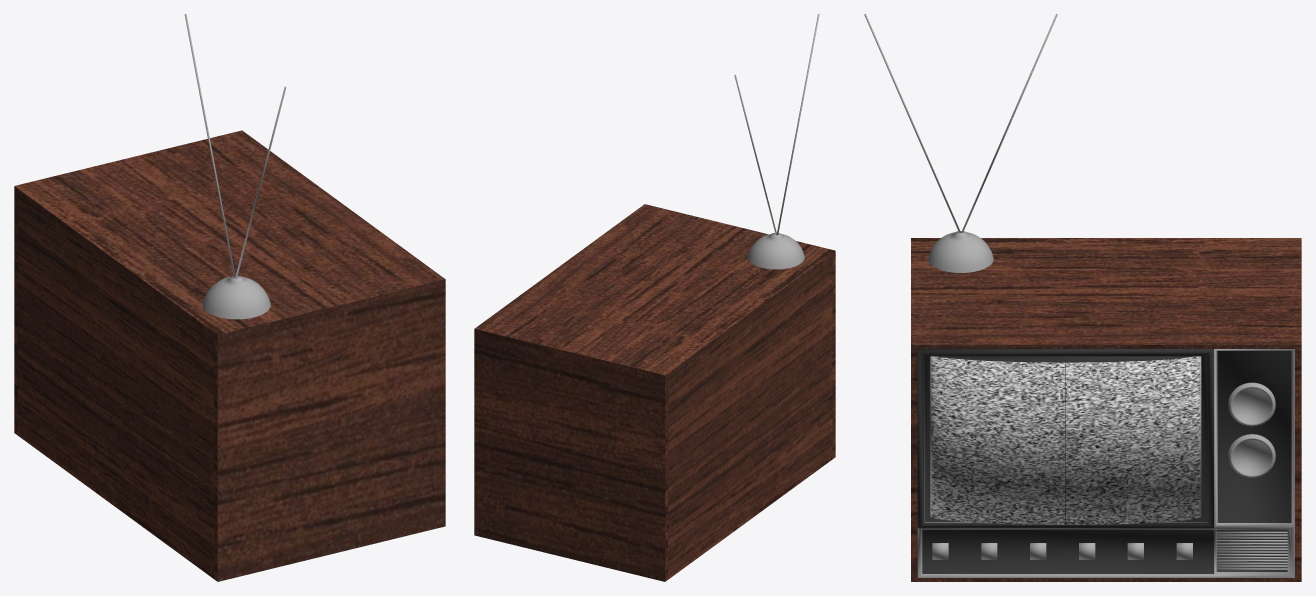
The picture shows the model from 3 angles, left to right: view 1: azimuth 30°, elevation 25°; view 2: azimuth 150°, elevation 25°; view 3: azimuth 270°, elevation 25°; orthographic projection. The views are drawn at different scales.
Visible parts, largest first — view 1: TV_0; view 2: TV_0; view 3: TV_0.
Boxes of the visible parts, x1=… form: TV_0: x1=14, y1=14, x2=445, y2=581; TV_0: x1=474, y1=14, x2=835, y2=581; TV_0: x1=864, y1=14, x2=1301, y2=581.
Bounding box in the file's own units: 0.6765 × 1.35 × 1.11.
Materials: 3 (3 with a texture image).
